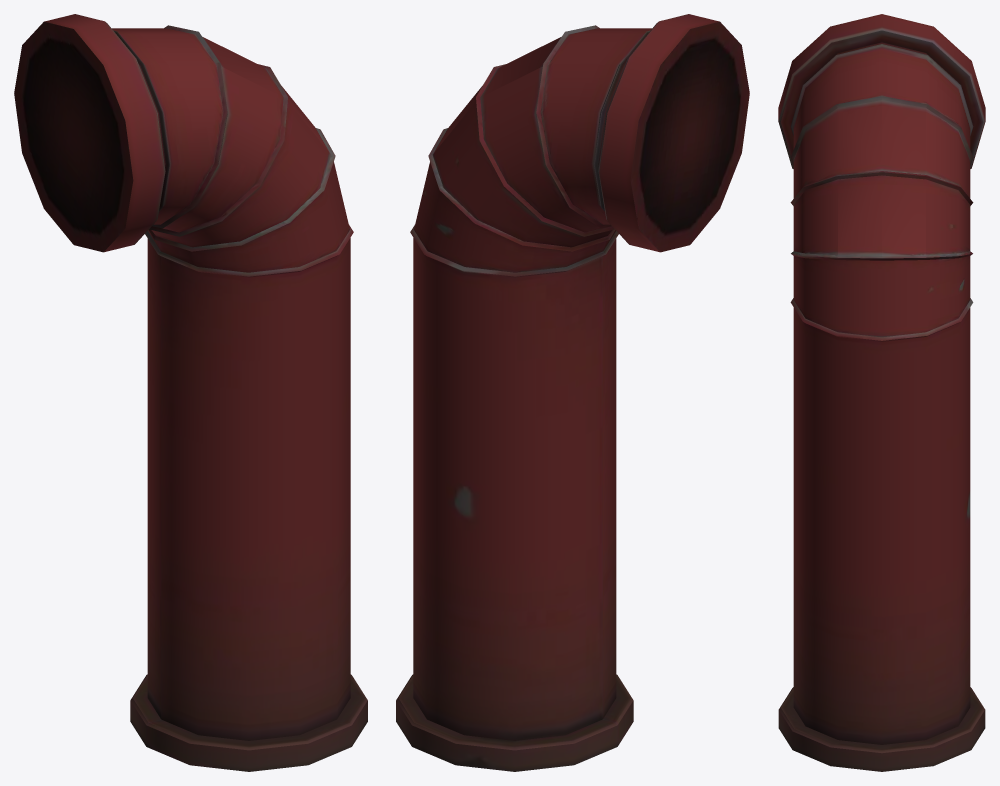
3 views of the same model, side by side, from view 1: azimuth 30°, elevation 25°; view 2: azimuth 150°, elevation 25°; view 3: azimuth 270°, elevation 25° (orthographic). The views are drawn at different scales.
Visible parts, largest first — view 1: body0_model0_lod0_mesh0; view 2: body0_model0_lod0_mesh0; view 3: body0_model0_lod0_mesh0.
Part boxes in pixels (x1,y1,x2,y2): body0_model0_lod0_mesh0: [14, 14, 367, 771]; body0_model0_lod0_mesh0: [396, 14, 749, 771]; body0_model0_lod0_mesh0: [778, 14, 985, 771].
Bounding box in the file's own units: 101 × 256 × 75.19.
Materials: 1 (1 with a texture image).
